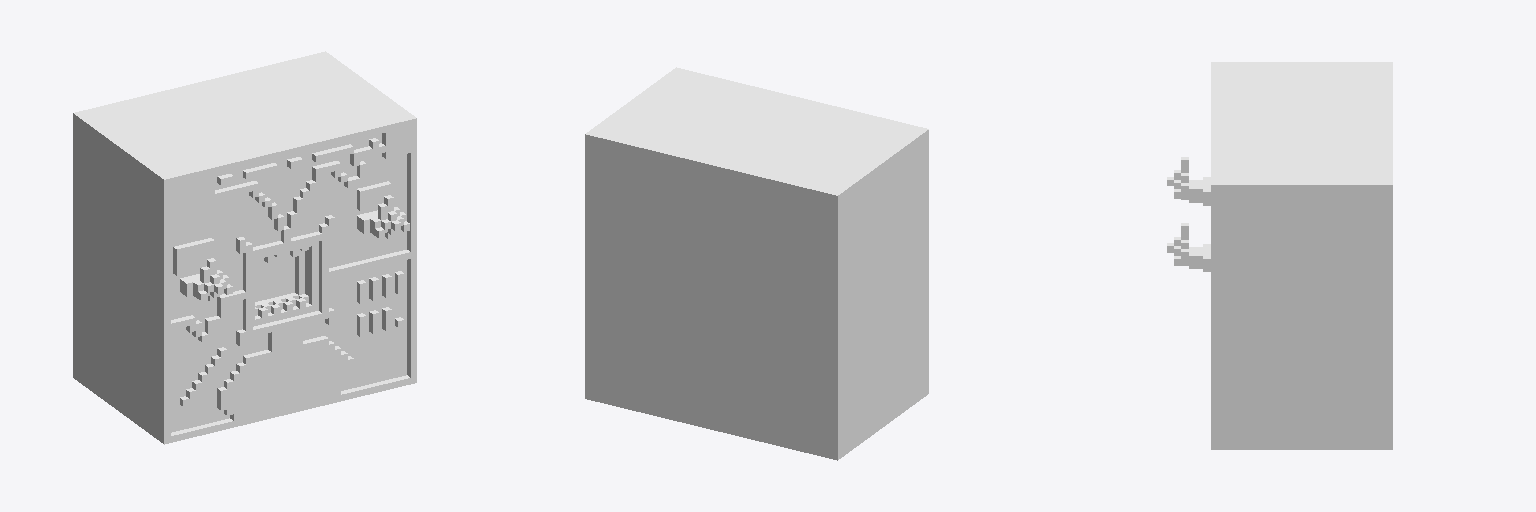
Rendered from PewPrompo.obj.
3 views of the same model, side by side, from view 1: azimuth 30°, elevation 25°; view 2: azimuth 150°, elevation 25°; view 3: azimuth 270°, elevation 25° (orthographic).
Parts seen in each view (by area): view 1: object 1; view 2: object 1; view 3: object 1.
Part boxes in pixels (left/top/right/bottom): object 1: left=73, top=51, right=416, bottom=444; object 1: left=585, top=67, right=928, bottom=460; object 1: left=1167, top=62, right=1392, bottom=449.
Bounding box in the file's own units: 4 × 4 × 3.1.